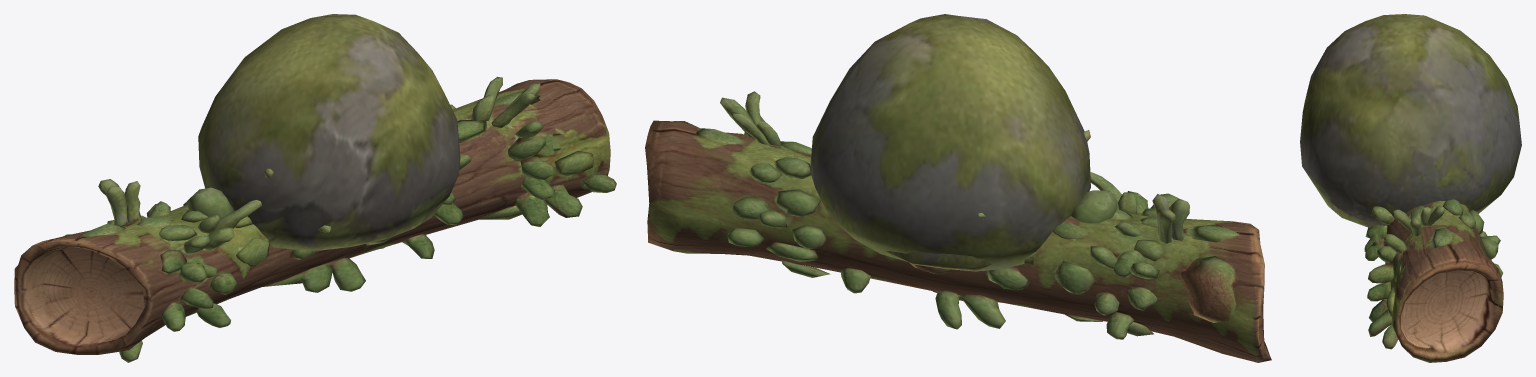
Rendered from bosque_orilla.glb.
The picture shows the model from 3 angles, left to right: view 1: azimuth 30°, elevation 25°; view 2: azimuth 150°, elevation 25°; view 3: azimuth 270°, elevation 25°; orthographic projection. The views are drawn at different scales.
Parts seen in each view (by area): view 1: tronco_estanque, roca_musgo_g; view 2: tronco_estanque, roca_musgo_g, roca_musgo_m; view 3: roca_musgo_g, tronco_estanque.
Boxes of the visible parts, x1,y1,x2,y2 form: tronco_estanque: [14, 76, 616, 362]; roca_musgo_g: [186, 14, 460, 250]; tronco_estanque: [645, 91, 1271, 362]; roca_musgo_g: [810, 14, 1117, 271]; roca_musgo_m: [886, 251, 991, 271]; roca_musgo_g: [1300, 14, 1521, 227]; tronco_estanque: [1364, 198, 1503, 362].
Bounding box in the file's own units: 2.6 × 1.13 × 0.9384.
1 material, 1 textured.
